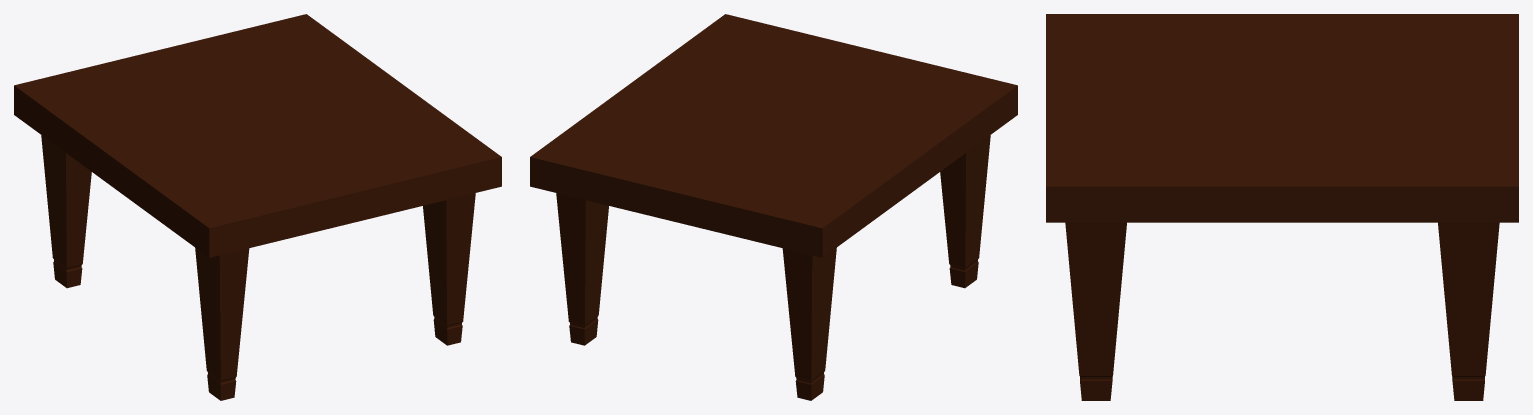
The model's file is Table_Small.fbx.
3 renders of one model, left to right at view 1: azimuth 30°, elevation 25°; view 2: azimuth 150°, elevation 25°; view 3: azimuth 270°, elevation 25°, orthographic. The views are drawn at different scales.
Parts seen in each view (by area): view 1: Cube.020; view 2: Cube.020; view 3: Cube.020.
Boxes of the visible parts, left/top/right/bottom form: Cube.020: left=14, top=14, right=501, bottom=400; Cube.020: left=530, top=14, right=1017, bottom=400; Cube.020: left=1046, top=14, right=1518, bottom=400.
Size of the model in its own units: 82.85 by 51.37 by 95.87.
